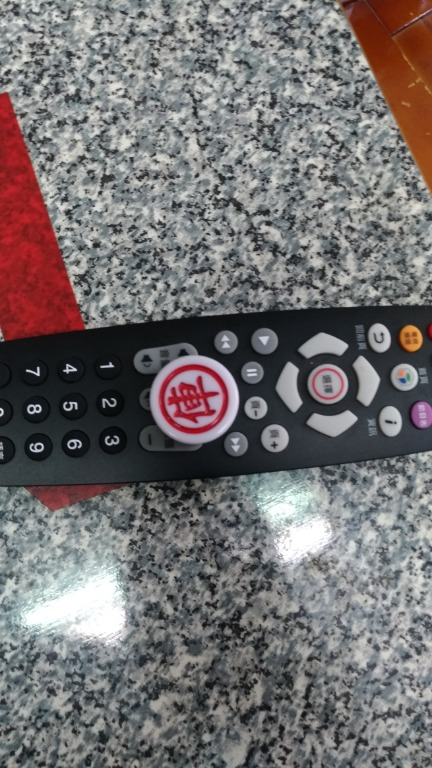r-rook: (120, 342, 261, 463)
